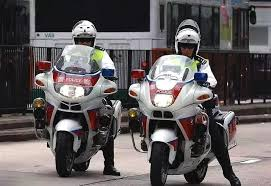helmet: (174, 27, 204, 55), (71, 23, 99, 44)
